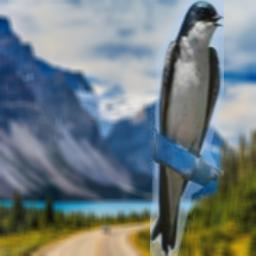Swallow: (150, 0, 224, 256)
